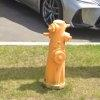a fire hydrant: (42, 17, 70, 91)
